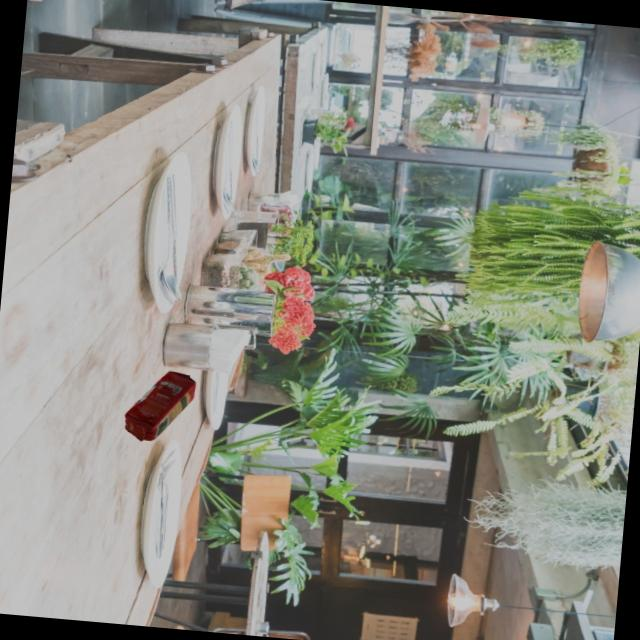mate bag: (123, 365, 200, 442)
